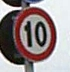limite 10: (14, 8, 55, 61)
